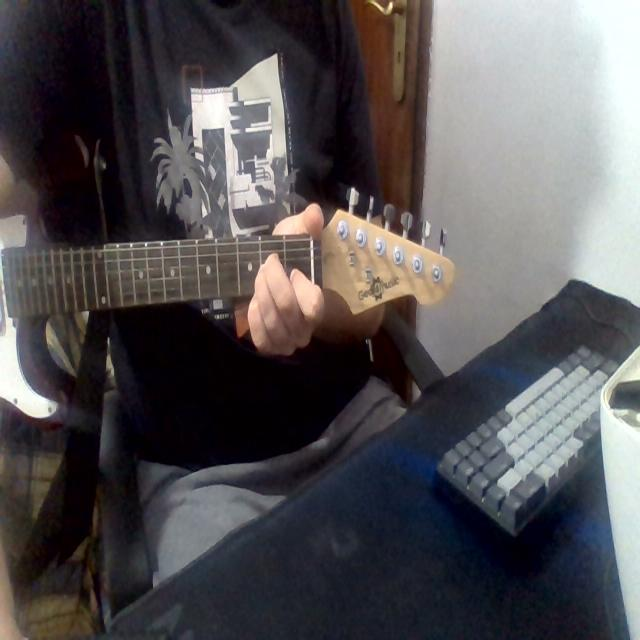Am: (233, 193, 340, 370)
